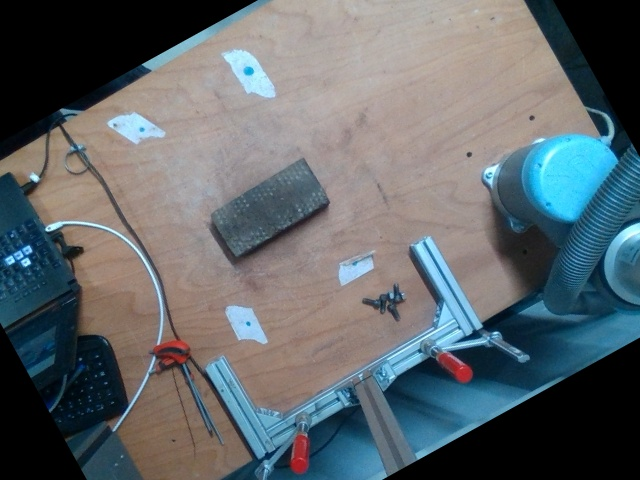brick: (207, 157, 326, 257)
